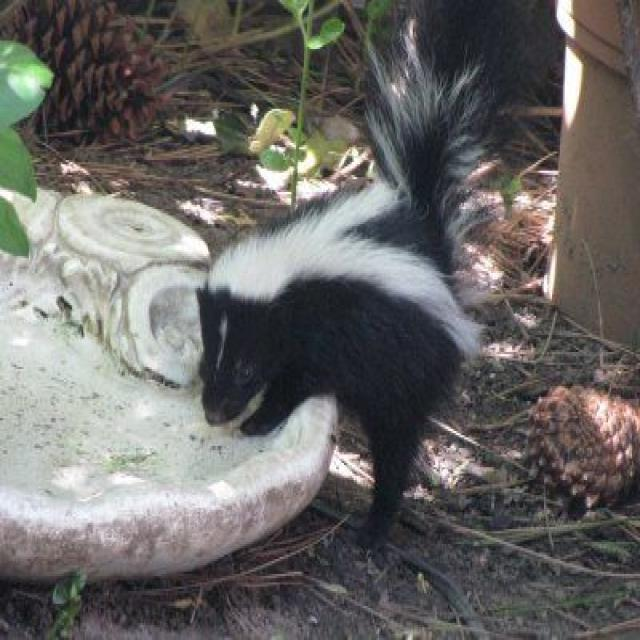Skunk: (190, 0, 512, 553)
